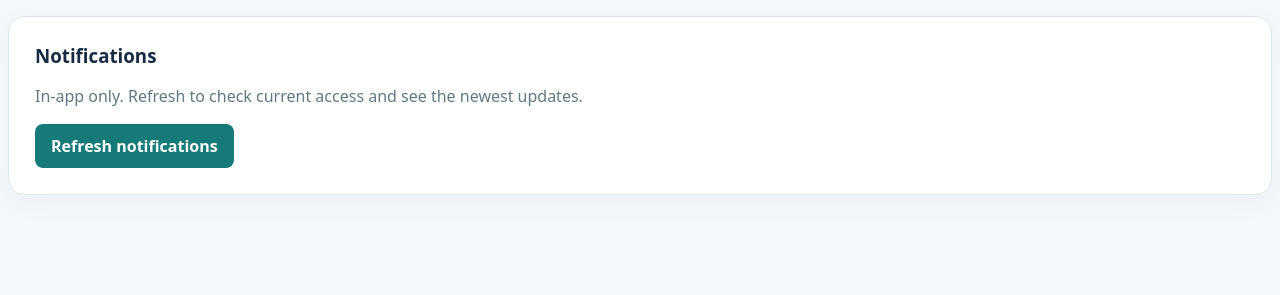
Test: identifies the relationship for a content-free care message notification
Click the button "Refresh notifications": [134, 146] box [35,124,234,168]
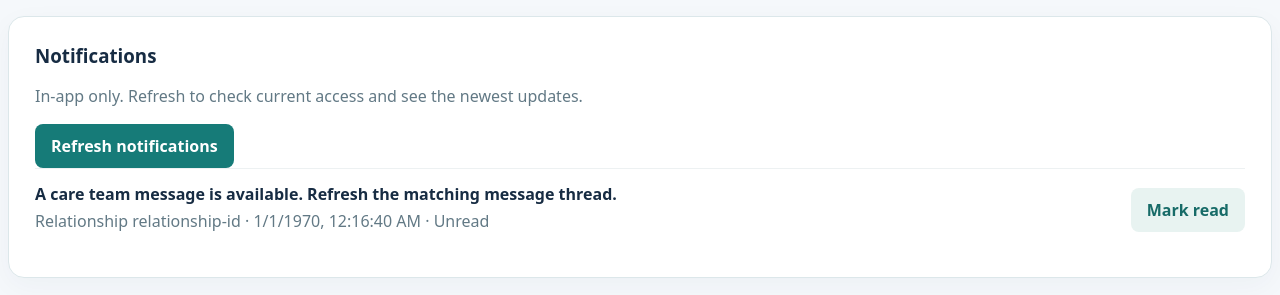
Result: the text "A care team message is available" is shown at [35,183,617,205]
Result: the text "Relationship relationship-id" is shown at [35,210,489,232]
